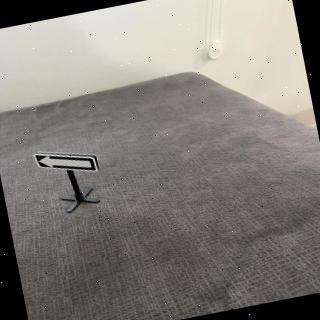sign_oneway_left: (33, 140, 101, 184)
